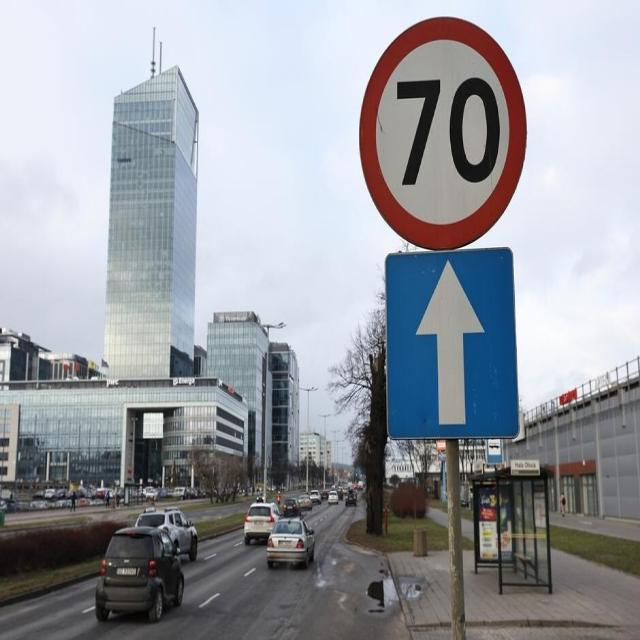Speed Limit -70-: (397, 70, 502, 194)
